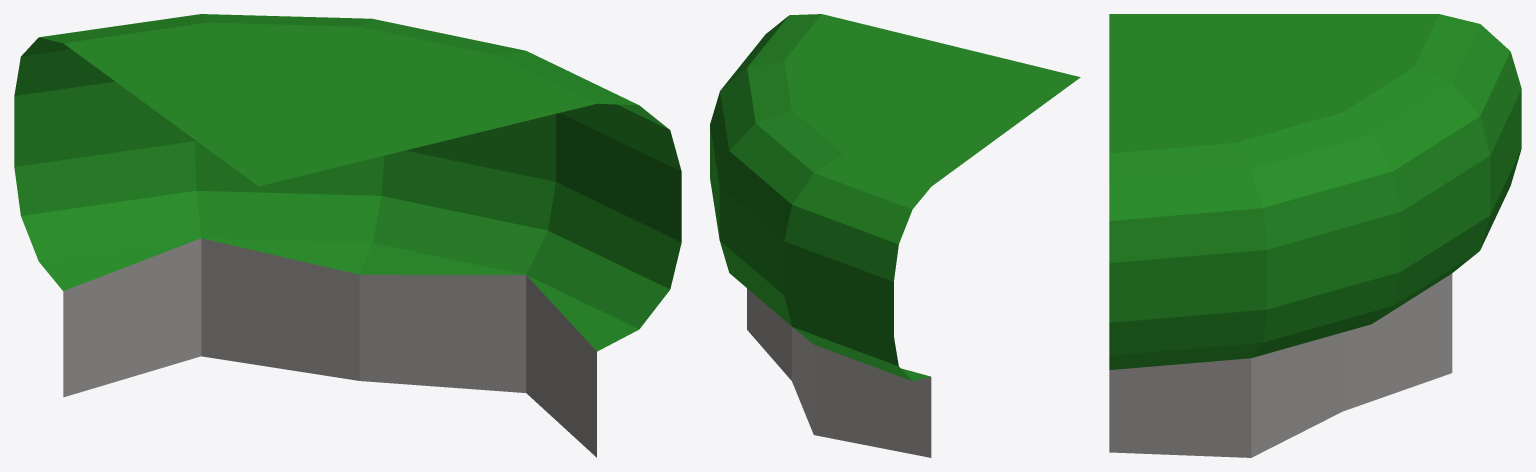
Rendered from Terrain_Cliff_Top_Corner_Outer_1x1.obj.
3 views of the same model, side by side, from view 1: azimuth 30°, elevation 25°; view 2: azimuth 150°, elevation 25°; view 3: azimuth 270°, elevation 25° (orthographic). The views are drawn at different scales.
Visible parts, largest first — view 1: Grass, Rock; view 2: Grass, Rock; view 3: Grass, Rock.
Part boxes in pixels (x1,y1,x2,y2): Grass: (14, 14, 681, 351); Rock: (63, 238, 596, 457); Grass: (710, 14, 1080, 381); Rock: (747, 288, 931, 457); Grass: (1109, 14, 1521, 369); Rock: (1109, 273, 1452, 457).
Bounding box in the file's own units: 1.25 × 1 × 1.25.
